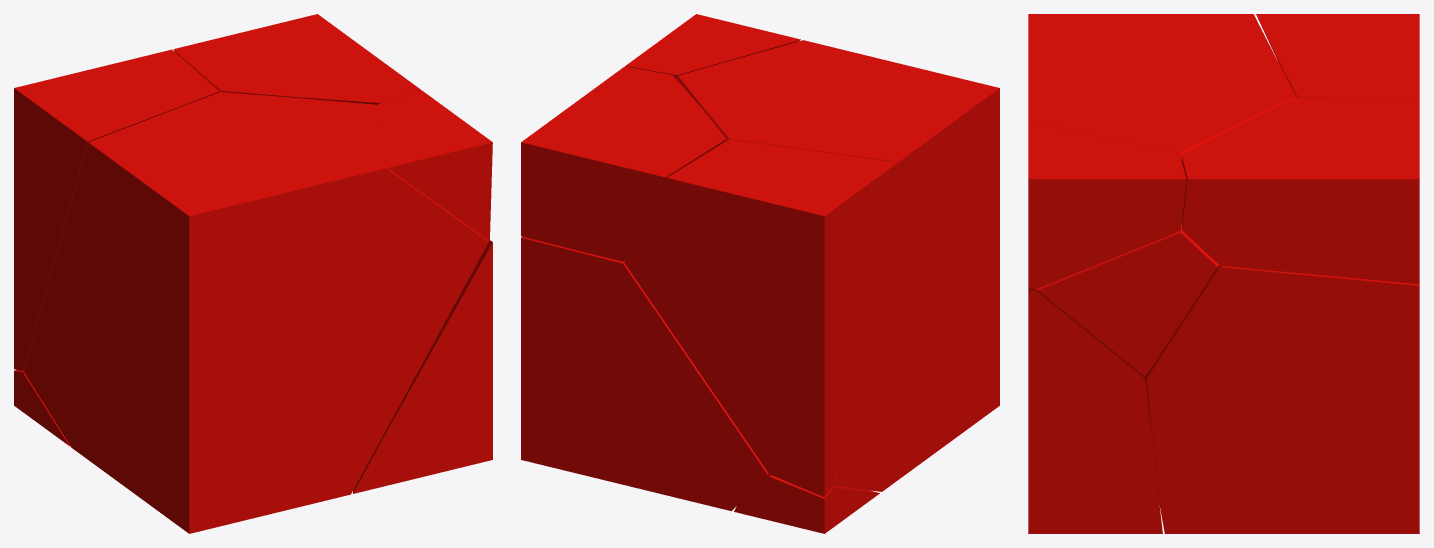
File: tutorial_clash.fbx
3 views of the same model, side by side, from view 1: azimuth 30°, elevation 25°; view 2: azimuth 150°, elevation 25°; view 3: azimuth 270°, elevation 25° (orthographic). The views are drawn at different scales.
Visible parts, largest first — view 1: tutorialobj_clash_cell, tutorialobj_clash_cell.002, tutorialobj_clash_cell.003, tutorialobj_clash_cell.006, tutorialobj_clash_cell.004, tutorialobj_clash_cell.001; view 2: tutorialobj_clash_cell, tutorialobj_clash_cell.002, tutorialobj_clash_cell.005, tutorialobj_clash_cell.006, tutorialobj_clash_cell.004, tutorialobj_clash_cell.001; view 3: tutorialobj_clash_cell.005, tutorialobj_clash_cell, tutorialobj_clash_cell.006, tutorialobj_clash_cell.003, tutorialobj_clash_cell.004, tutorialobj_clash_cell.002.
Boxes of the visible parts, x1,y1,x2,y2 form: tutorialobj_clash_cell: [24, 92, 488, 533]; tutorialobj_clash_cell.002: [14, 49, 219, 370]; tutorialobj_clash_cell.003: [353, 240, 492, 493]; tutorialobj_clash_cell.006: [173, 14, 421, 105]; tutorialobj_clash_cell.004: [377, 90, 492, 240]; tutorialobj_clash_cell.001: [14, 369, 70, 446]; tutorialobj_clash_cell: [675, 40, 999, 491]; tutorialobj_clash_cell.002: [624, 139, 897, 497]; tutorialobj_clash_cell.005: [521, 236, 768, 511]; tutorialobj_clash_cell.006: [521, 66, 726, 261]; tutorialobj_clash_cell.004: [625, 14, 800, 77]; tutorialobj_clash_cell.001: [734, 473, 879, 533]; tutorialobj_clash_cell.005: [1146, 266, 1419, 533]; tutorialobj_clash_cell: [1028, 14, 1295, 446]; tutorialobj_clash_cell.006: [1181, 97, 1419, 284]; tutorialobj_clash_cell.003: [1028, 290, 1162, 533]; tutorialobj_clash_cell.004: [1028, 122, 1186, 289]; tutorialobj_clash_cell.002: [1256, 14, 1419, 100].
Bounding box in the file's own units: 40 × 40 × 40.
